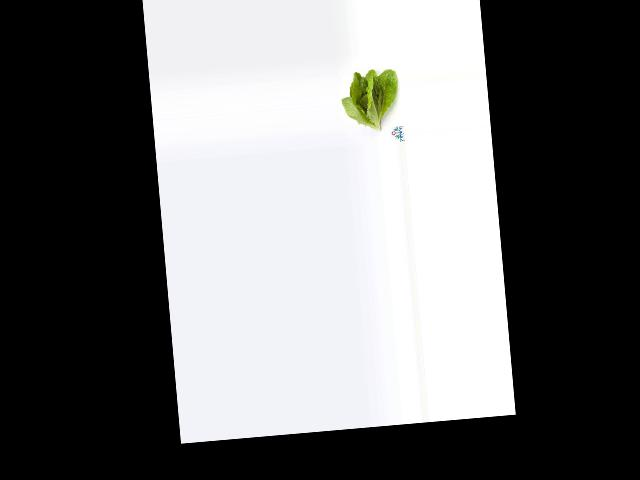lettuce: (337, 65, 400, 133)
